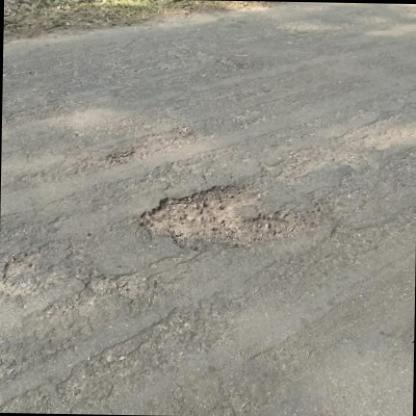pothole: (136, 182, 325, 251), (78, 270, 152, 303), (1, 243, 42, 285)
